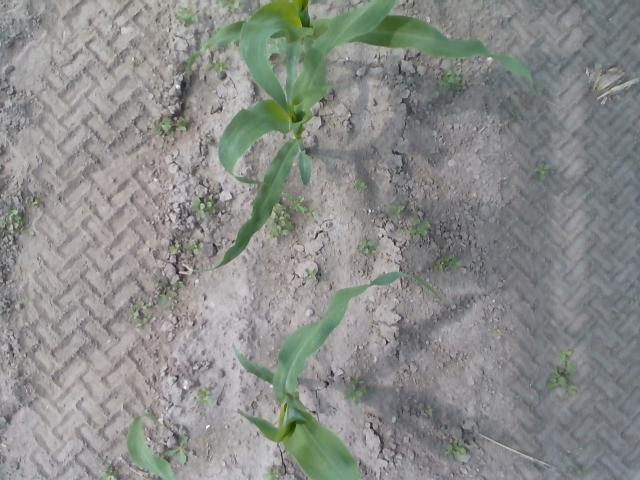Maize: (128, 270, 442, 480), (190, 1, 396, 272), (187, 0, 533, 92), (126, 413, 173, 480)
Weeds: (548, 367, 578, 394), (167, 435, 190, 465), (272, 211, 295, 238), (156, 276, 178, 303), (438, 68, 464, 88), (192, 197, 214, 218), (346, 380, 365, 404), (284, 194, 307, 212), (161, 118, 189, 132), (438, 256, 462, 271), (6, 209, 20, 231), (411, 219, 430, 235), (444, 443, 466, 455), (133, 300, 147, 318), (181, 8, 199, 22), (358, 240, 374, 255), (101, 466, 118, 480), (536, 161, 550, 178), (223, 0, 240, 12), (210, 60, 227, 72), (198, 389, 213, 402), (392, 206, 408, 218), (188, 242, 204, 253), (568, 464, 582, 476), (355, 180, 369, 192), (264, 468, 280, 478), (170, 242, 182, 255), (32, 198, 46, 208), (560, 348, 572, 359), (306, 207, 318, 218), (307, 270, 320, 280), (136, 318, 148, 327), (426, 403, 435, 415), (176, 281, 187, 290)
